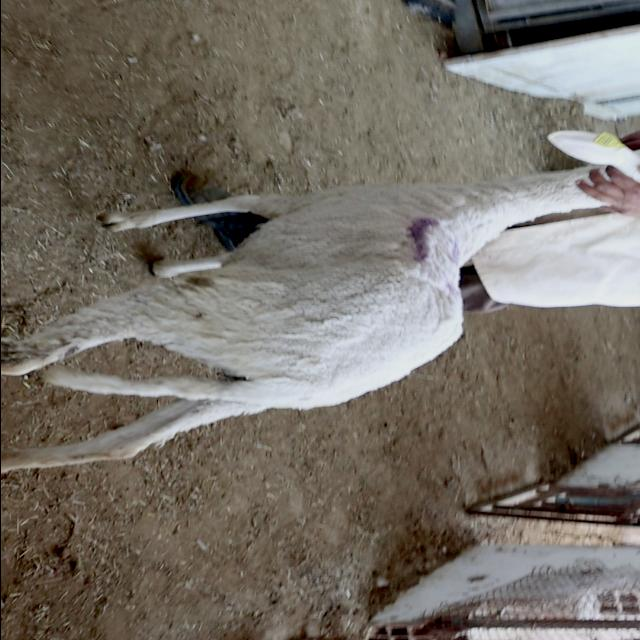Score_3: (1, 168, 599, 472)
